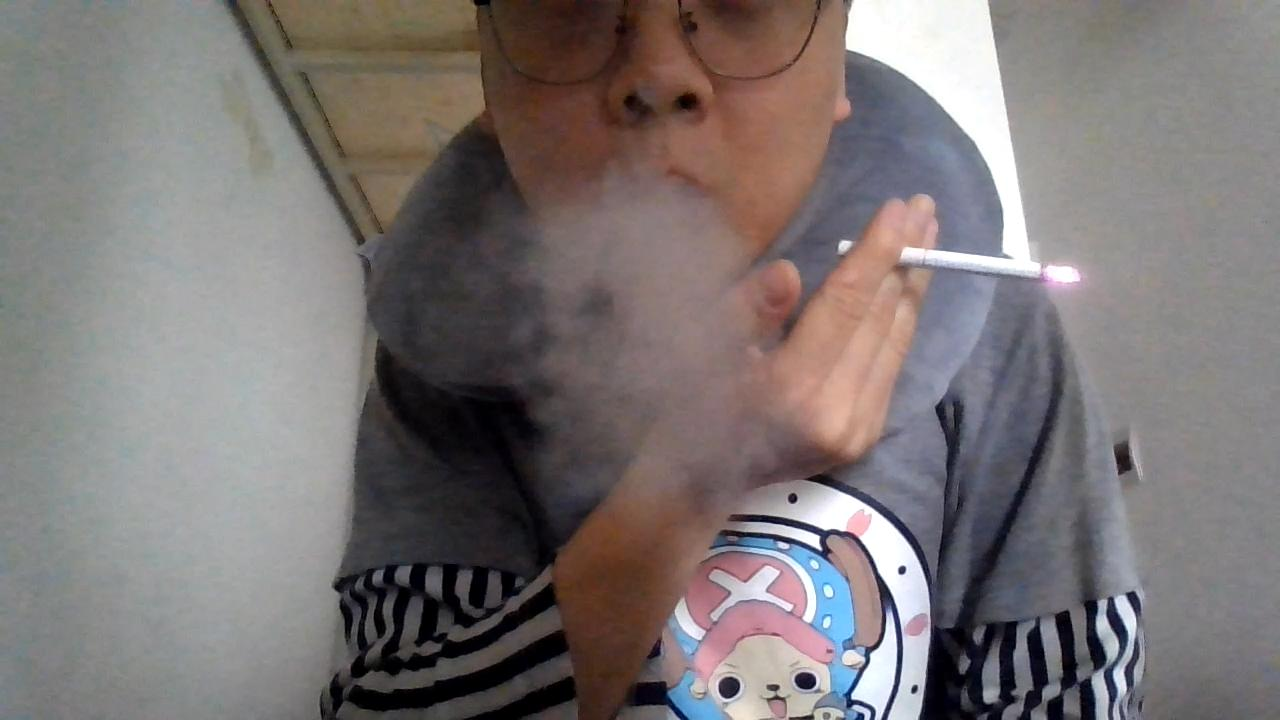yanwu: (502, 172, 777, 499)
